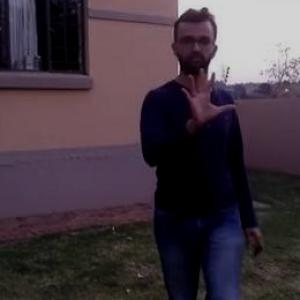follow_hand: (177, 64, 240, 125)
